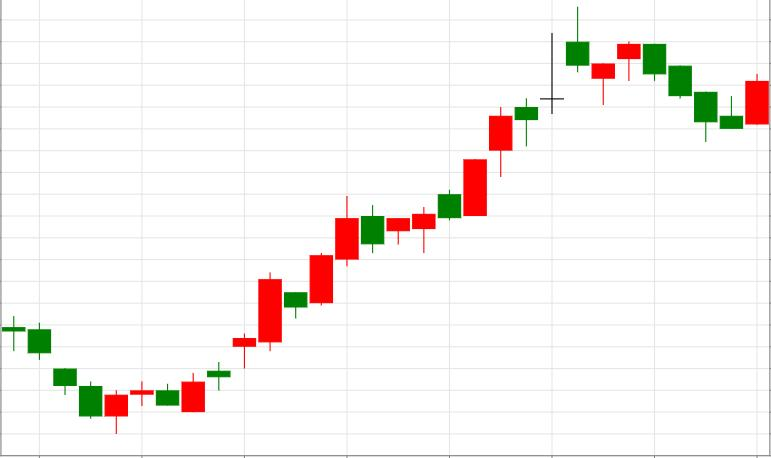shooting_star_fall: (386, 8, 589, 252)
